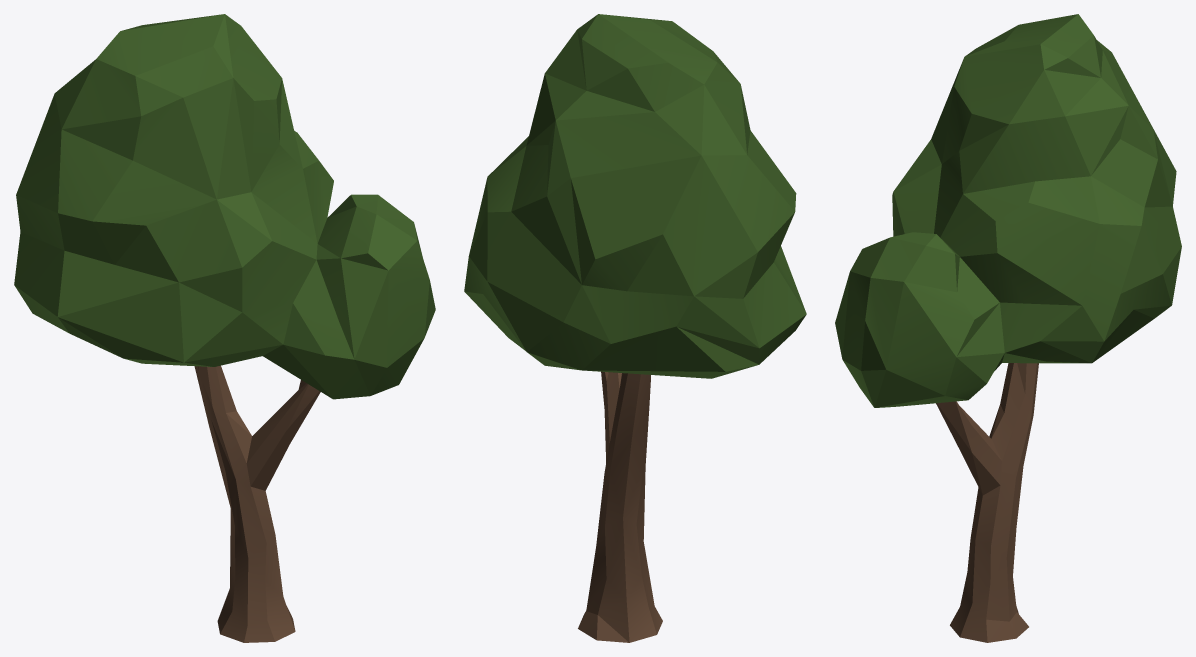
File: BroadleafB.fbx
3 views of the same model, side by side, from view 1: azimuth 30°, elevation 25°; view 2: azimuth 150°, elevation 25°; view 3: azimuth 270°, elevation 25° (orthographic). The views are drawn at different scales.
Parts seen in each view (by area): view 1: BroadleafB; view 2: BroadleafB; view 3: BroadleafB.
Part boxes in pixels (<box>): BroadleafB: <box>14,14,435,642</box>; BroadleafB: <box>464,14,806,642</box>; BroadleafB: <box>835,14,1181,642</box>.
Size of the model in its own units: 537 by 961 by 522.
